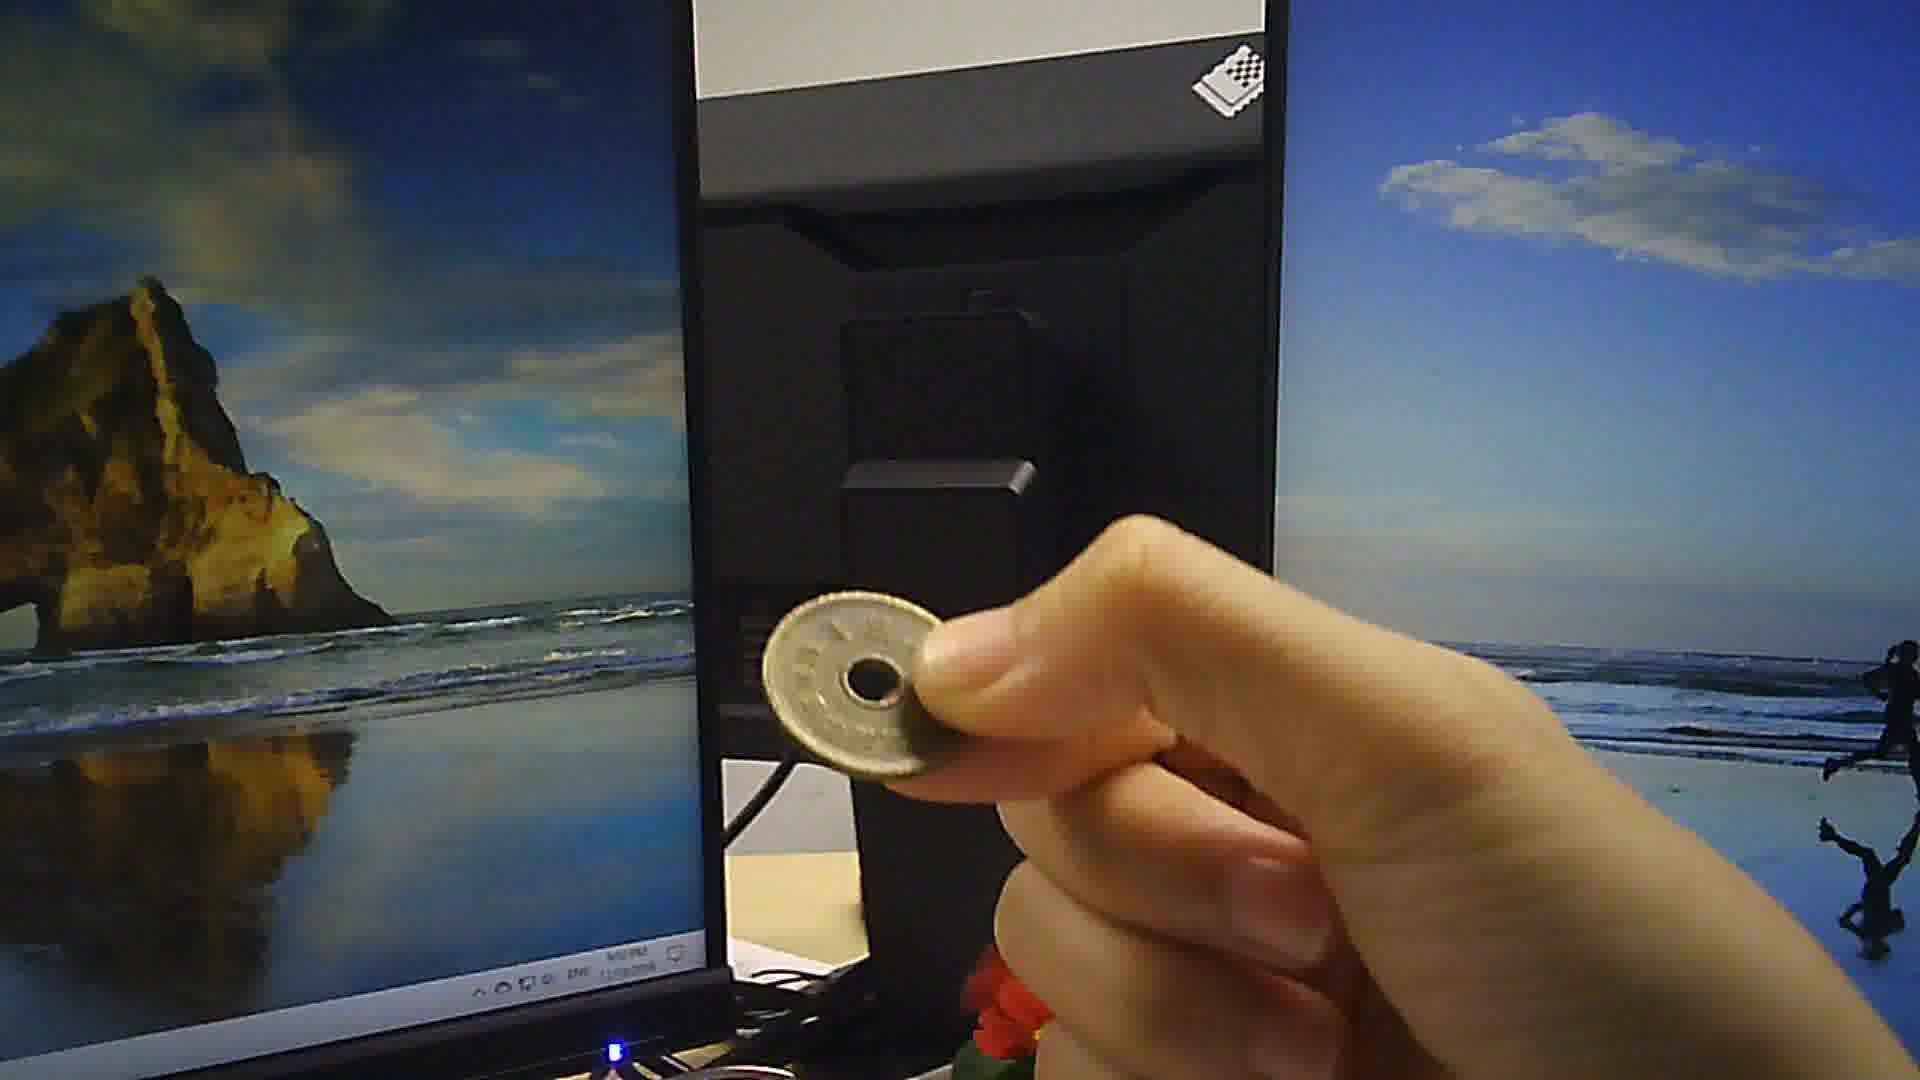5 Yen: (761, 588, 978, 783)
